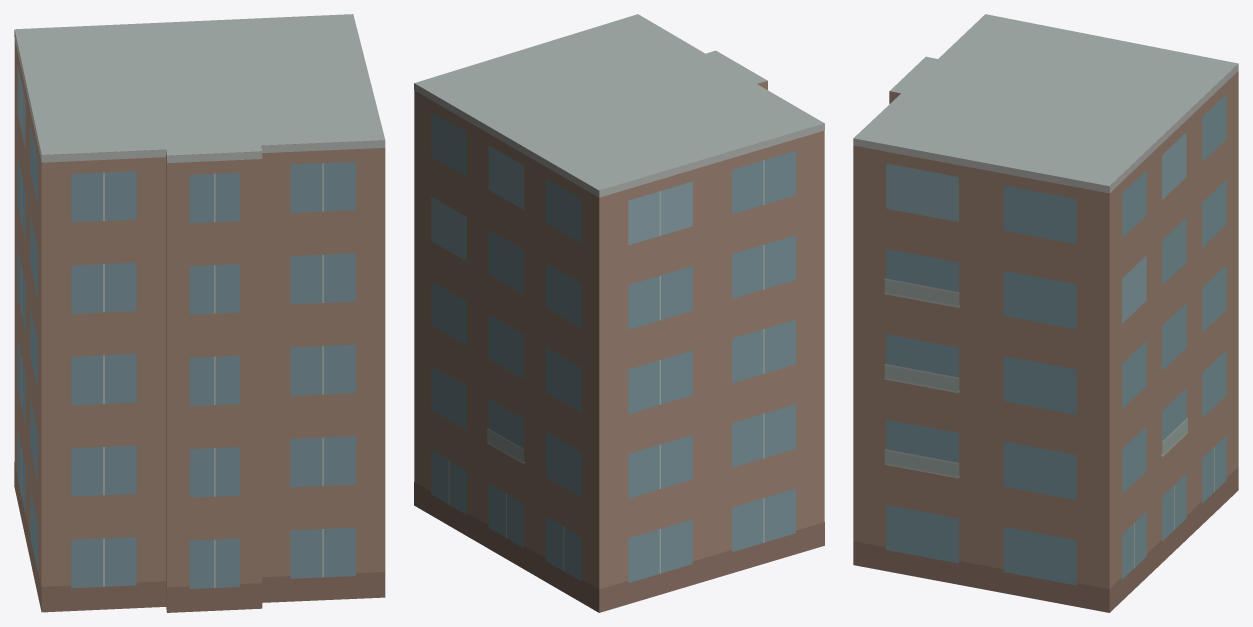
The model's file is survey-upis-32528282.glb.
The picture shows the model from 3 angles, left to right: view 1: azimuth 30°, elevation 25°; view 2: azimuth 150°, elevation 25°; view 3: azimuth 270°, elevation 25°; orthographic projection. The views are drawn at different scales.
Visible parts, largest first — view 1: survey-upis-32528282.tmp; view 2: survey-upis-32528282.tmp; view 3: survey-upis-32528282.tmp.
Boxes of the visible parts, left/top/right/bottom form: survey-upis-32528282.tmp: left=14, top=14, right=385, bottom=612; survey-upis-32528282.tmp: left=414, top=14, right=824, bottom=612; survey-upis-32528282.tmp: left=853, top=14, right=1238, bottom=612.
Bounding box in the file's own units: 12.56 × 14.5 × 11.88.
